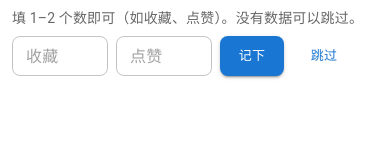
Test: RetroFillForm › records the observed numbers against the publish record
This screenshot has width=371, height=160.
Type "12" into the field named "收藏数" at (60, 56), box [12,36,108,76]
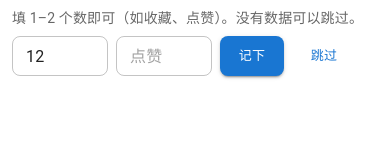
Type "3" into the field named "点赞数" at (164, 56), box [116,36,212,76]
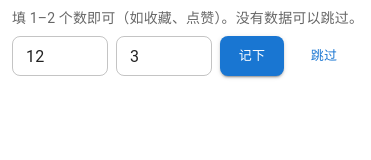
Click the button "记下" at (252, 56), box [220,36,284,76]
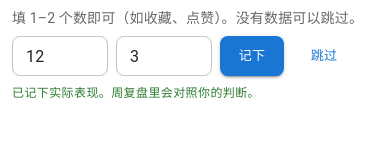
Expected: the text "已记下实际表现。周复盘里会对照你的判断。" is shown, [12,86,260,100]
